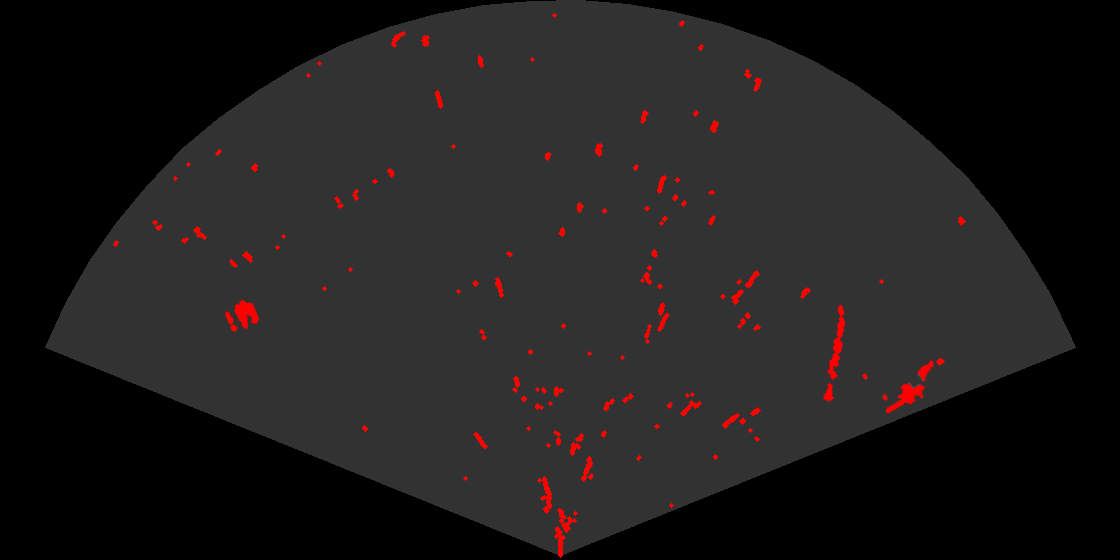ball: (223, 298, 261, 334)
chain: (822, 303, 847, 404)
frogman: (886, 356, 943, 413)
